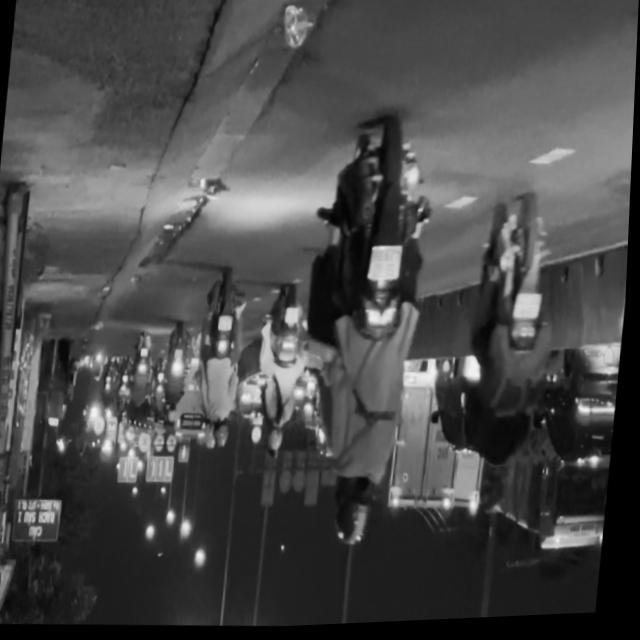helmet: (335, 480, 382, 553), (483, 464, 517, 518)
licenseplate: (290, 117, 447, 558), (455, 196, 573, 526)
nohelmet: (372, 250, 406, 287), (517, 299, 545, 327)
